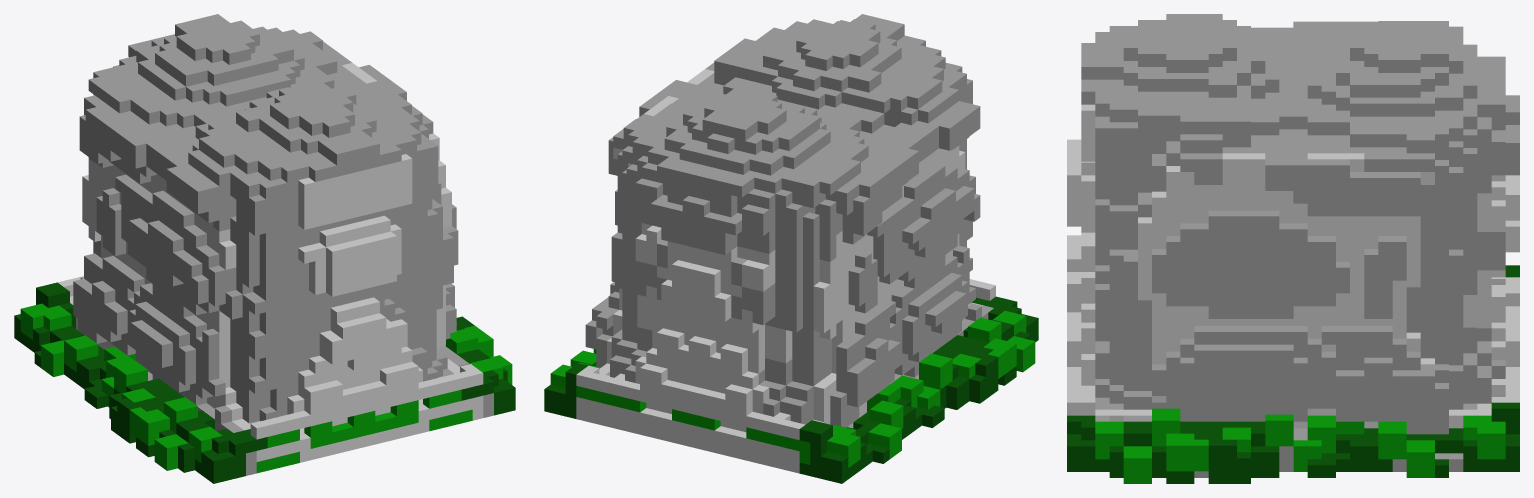
File: kiviaita.gltf
3 renders of one model, left to right at view 1: azimuth 30°, elevation 25°; view 2: azimuth 150°, elevation 25°; view 3: azimuth 270°, elevation 25°, orthographic. The views are drawn at different scales.
Parts seen in each view (by area): view 1: Layer.1, Layer.2; view 2: Layer.1, Layer.2; view 3: Layer.1, Layer.2.
Part boxes in pixels (x1,y1,x2,y2): Layer.1: [58, 14, 493, 475]; Layer.2: [14, 282, 515, 483]; Layer.1: [576, 14, 995, 473]; Layer.2: [544, 296, 1038, 483]; Layer.1: [1067, 14, 1519, 477]; Layer.2: [1067, 265, 1519, 483].
Size of the model in its own units: 32 by 27 by 32.
Materials: 1 (1 with a texture image).
